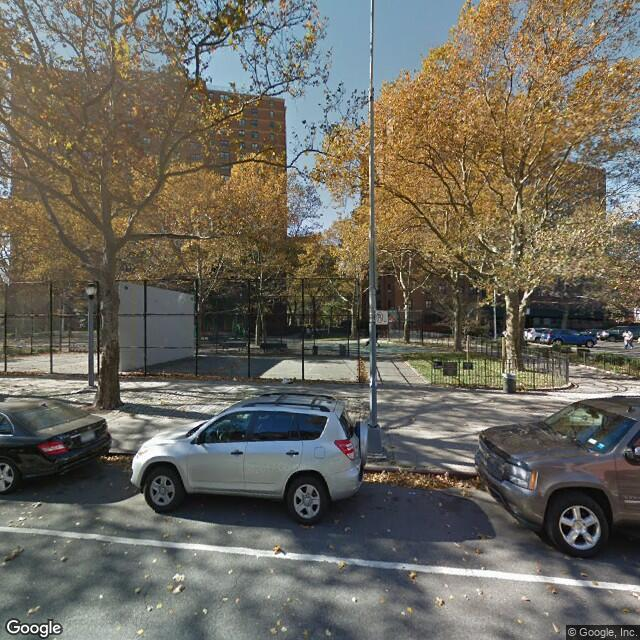litter: (277, 372, 295, 390)
